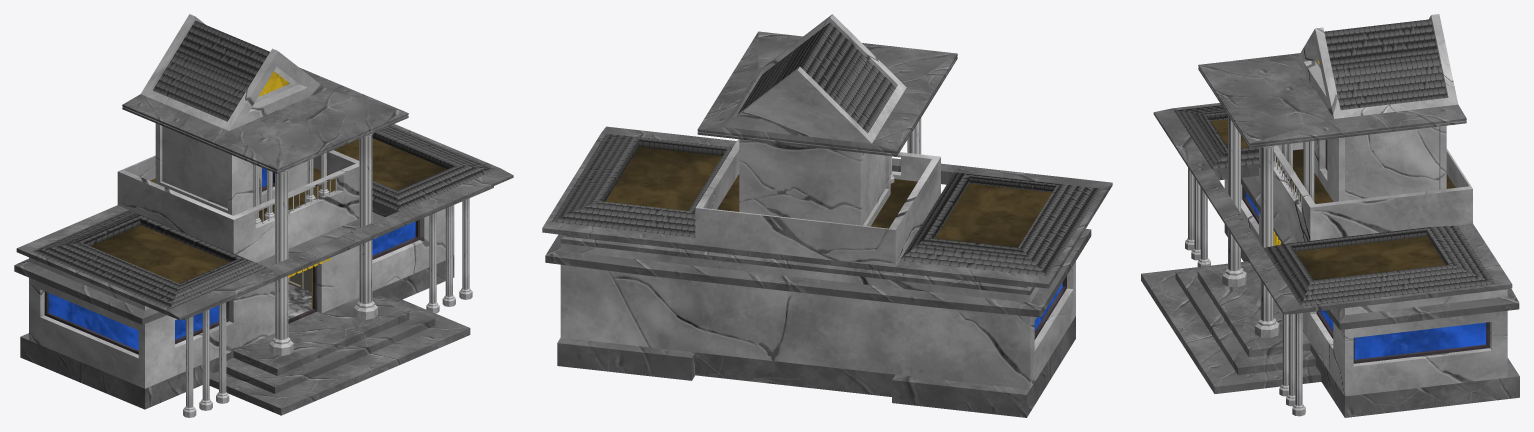
Rendered from Bank.glb.
The picture shows the model from 3 angles, left to right: view 1: azimuth 30°, elevation 25°; view 2: azimuth 150°, elevation 25°; view 3: azimuth 270°, elevation 25°; orthographic projection. The views are drawn at different scales.
Visible parts, largest first — view 1: Bank_0; view 2: Bank_0; view 3: Bank_0.
Part boxes in pixels (box(x1,y1,x2,y2)): Bank_0: box(14, 14, 513, 417); Bank_0: box(542, 14, 1112, 417); Bank_0: box(1141, 14, 1519, 417).
Size of the model in its own units: 3.38 by 2.04 by 2.38.
18 materials, 14 textured.
